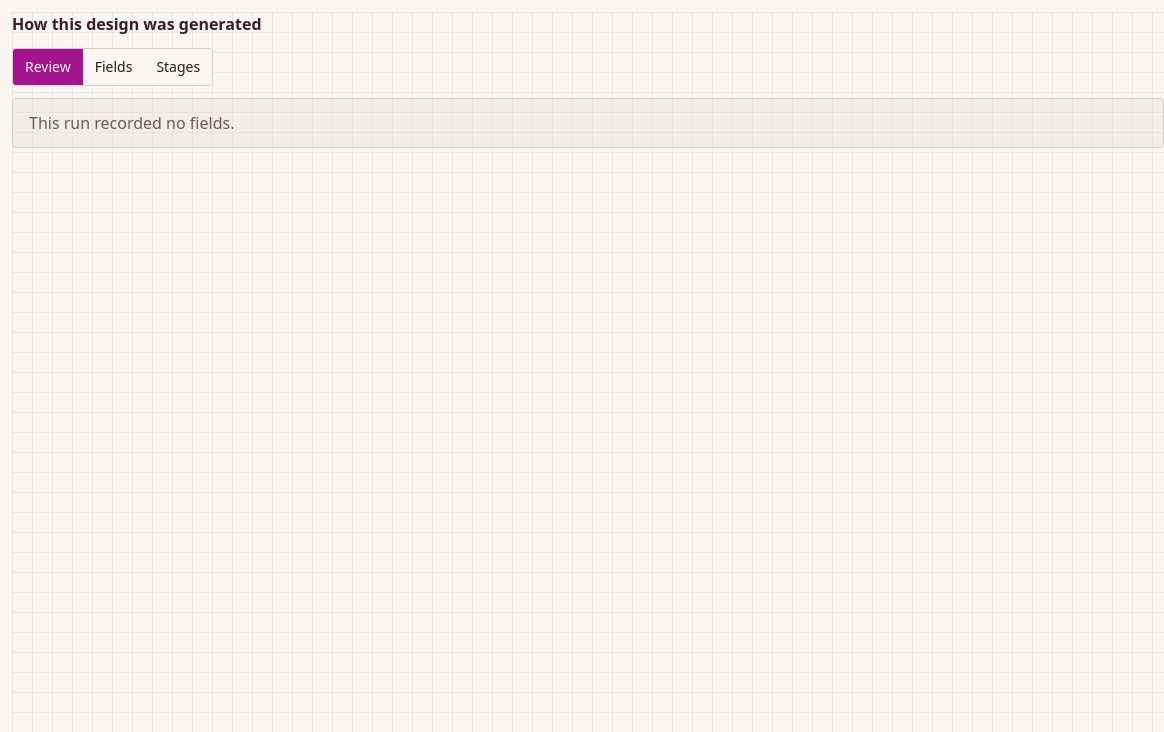
Scenario: ProvenanceRecord — a run that recorded little › says so on the view that is empty, rather than showing a blank tab
This screenshot has width=1164, height=732.
Expected: the text "This run recorded no fields." is shown, [12,98,1163,148]
Click the radio button labelled "Stages".
click(178, 67)  # box [144,49,212,85]
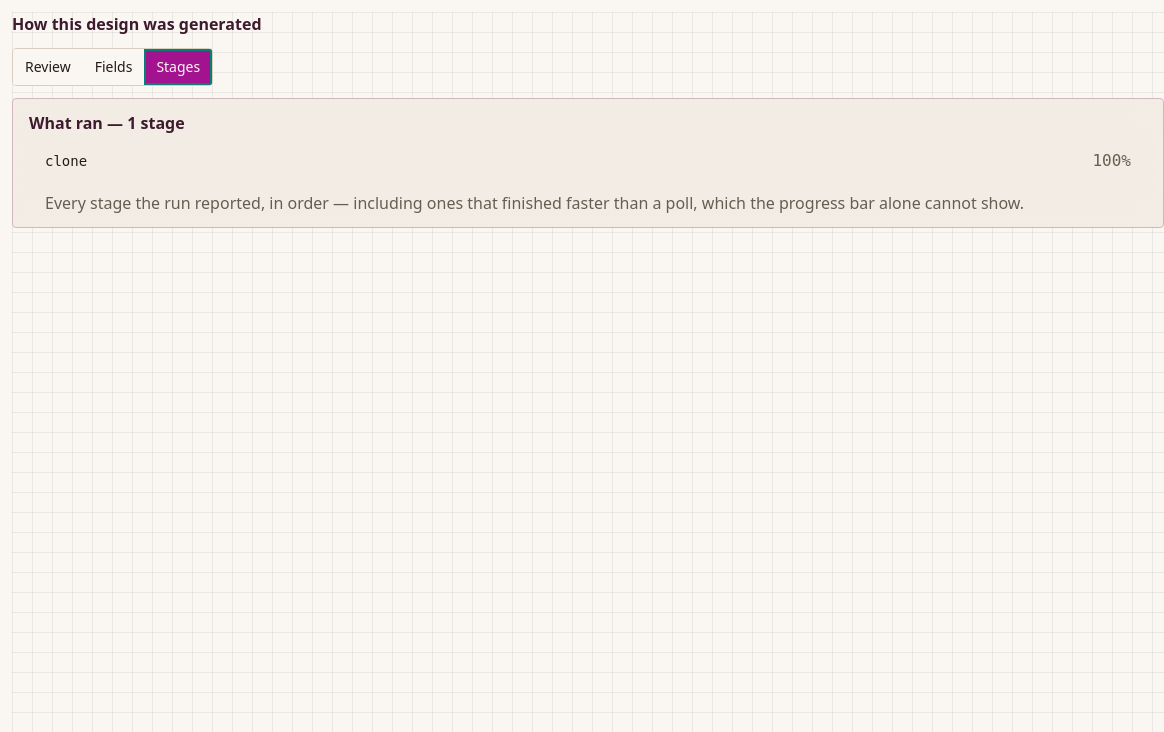
Expected: the heading "What ran — 1 stage" is shown, [28,112,196,146]
